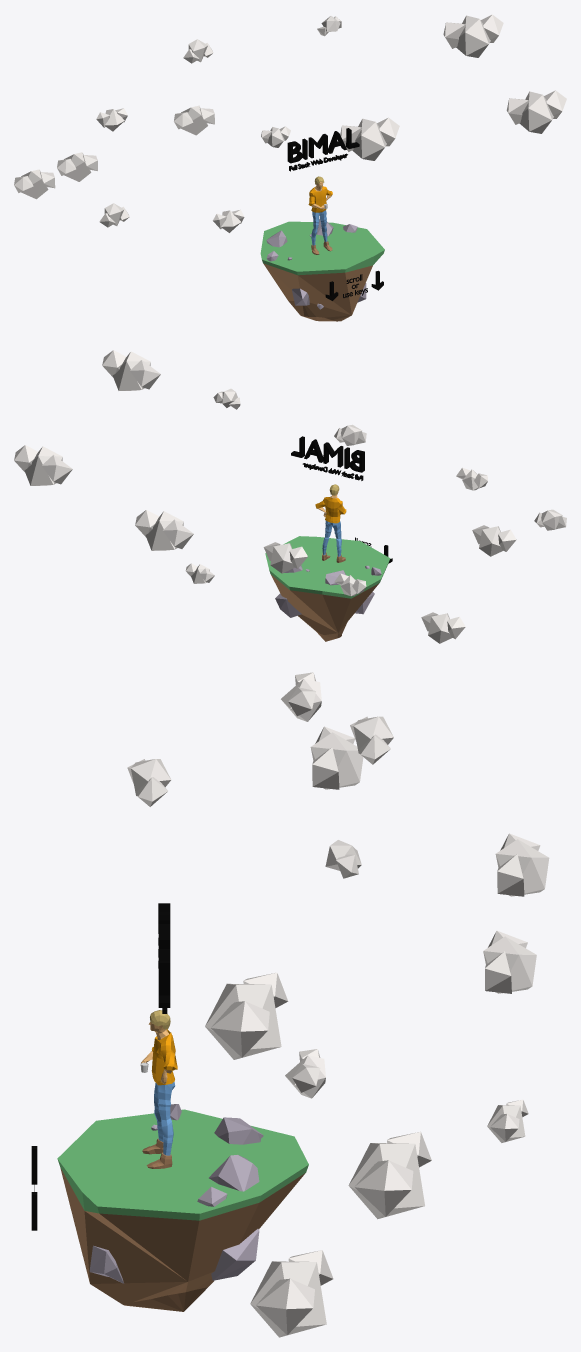
Rendered from title.glb.
3 views of the same model, one above another, from view 1: azimuth 30°, elevation 25°; view 2: azimuth 150°, elevation 25°; view 3: azimuth 270°, elevation 25° (orthographic). The views are drawn at different scales.
Visible parts, largest first — view 1: Cylinder, Sphere.007, Sphere.010, Sphere.004, Text, Cylinder.002, Sphere.005, Sphere.008, Sphere.011, Sphere.006, Sphere.001, Sphere.002 (+2 smaller); view 2: Cylinder, Sphere.010, Sphere.007, Sphere.004, Text, Cylinder.002, Sphere.005, Sphere.011, Sphere.008, Sphere.009, Sphere.002, Sphere.001 (+3 smaller); view 3: Cylinder, Sphere.010, Sphere.004, Sphere.007, Cylinder.002, Sphere.008, Sphere.005, Sphere.011, Sphere.002, Sphere.009, Text, Sphere.001 (+6 smaller).
Part boxes in pixels (bbox=[...]): Cylinder: bbox=[260, 221, 384, 321]; Sphere.007: bbox=[443, 14, 503, 57]; Sphere.010: bbox=[506, 90, 566, 133]; Sphere.004: bbox=[340, 117, 399, 160]; Text: bbox=[287, 128, 359, 163]; Cylinder.002: bbox=[308, 176, 332, 254]; Sphere.005: bbox=[174, 105, 214, 135]; Sphere.008: bbox=[14, 169, 55, 199]; Sphere.011: bbox=[57, 152, 97, 181]; Sphere.006: bbox=[213, 209, 244, 232]; Sphere.001: bbox=[96, 108, 127, 131]; Sphere.002: bbox=[183, 39, 213, 63]; Cylinder: bbox=[265, 536, 390, 641]; Sphere.010: bbox=[14, 445, 72, 485]; Sphere.007: bbox=[102, 350, 160, 390]; Sphere.004: bbox=[135, 510, 193, 550]; Text: bbox=[291, 436, 364, 472]; Cylinder.002: bbox=[315, 484, 346, 562]; Sphere.005: bbox=[263, 542, 307, 573]; Sphere.011: bbox=[472, 525, 516, 556]; Sphere.008: bbox=[421, 612, 465, 643]; Sphere.009: bbox=[534, 509, 566, 530]; Sphere.002: bbox=[334, 424, 366, 445]; Sphere.001: bbox=[456, 467, 487, 490]; Cylinder: bbox=[57, 1109, 308, 1311]; Sphere.010: bbox=[250, 1250, 333, 1337]; Sphere.004: bbox=[348, 1131, 431, 1219]; Sphere.007: bbox=[205, 972, 288, 1059]; Cylinder.002: bbox=[140, 1010, 177, 1168]; Sphere.008: bbox=[495, 833, 549, 896]; Sphere.005: bbox=[483, 930, 536, 993]; Sphere.011: bbox=[310, 726, 363, 789]; Sphere.002: bbox=[350, 716, 393, 764]; Sphere.009: bbox=[127, 759, 171, 806]; Text: bbox=[158, 903, 170, 1007]; Sphere.001: bbox=[281, 672, 321, 721].
Bounding box in the file's own units: 19.29 × 9.68 × 8.61.
